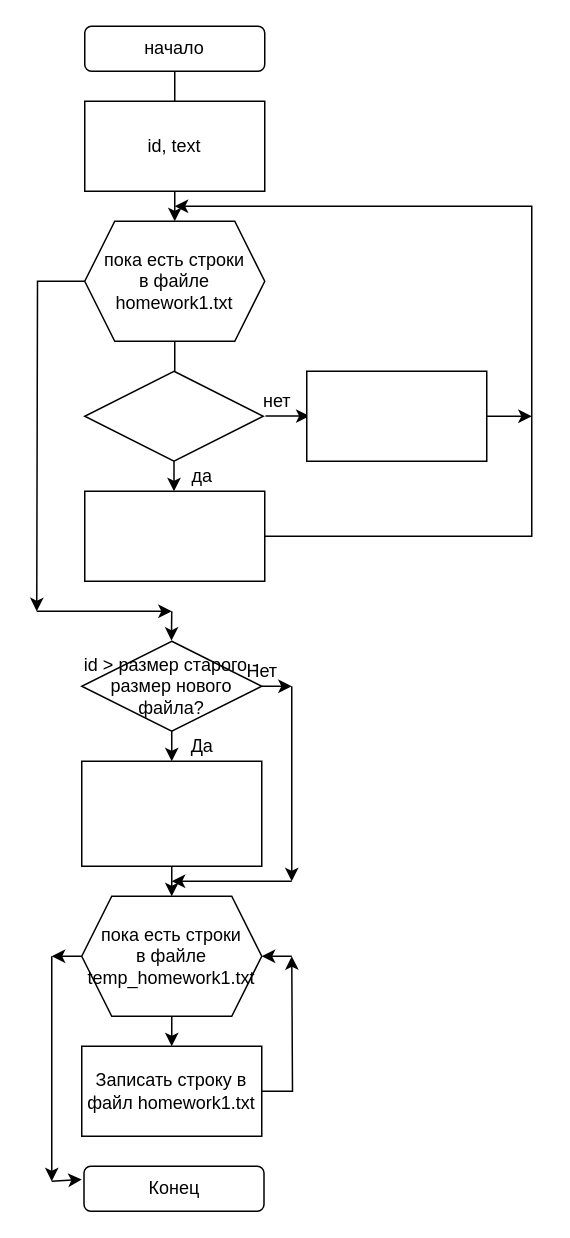
This 570x1238 diagram has some shape labels left out. Each missing label, with the centre of its shape:
"Добавить \n в новый файл, в количестве нехватающем до id, после \n" belongs at point (171, 813).
"записать \n" belongs at point (396, 415).
"записать text" belongs at point (174, 535).
"номер строки соотв id" belongs at point (173, 415).
